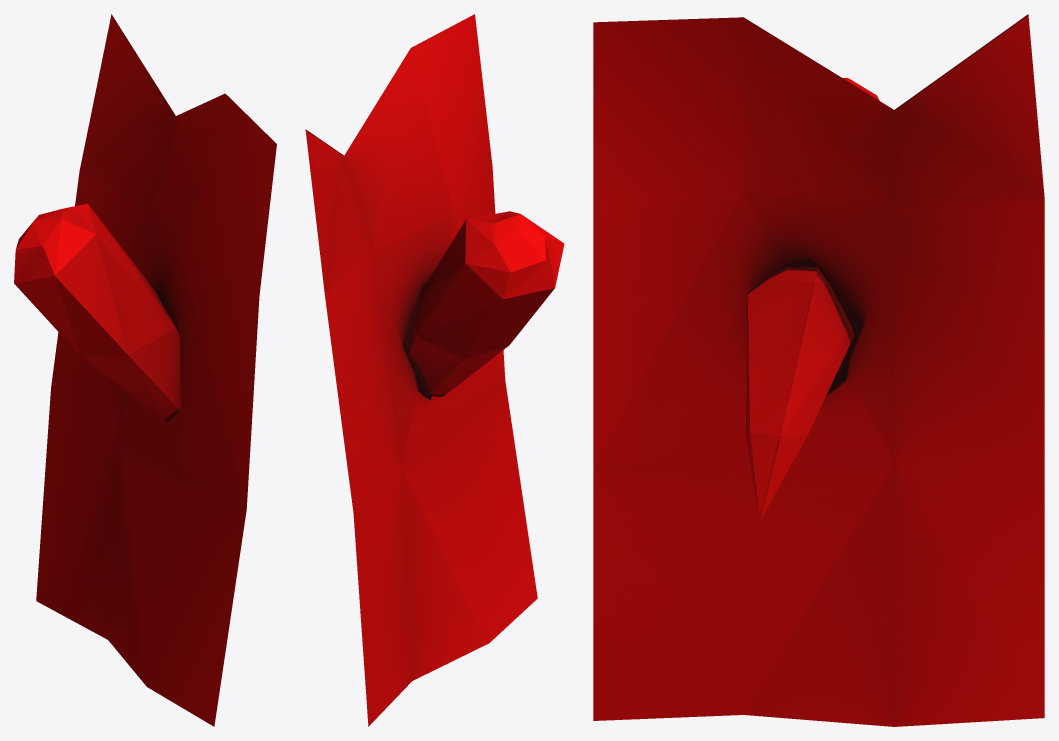
File: Crystal.FBX
The picture shows the model from 3 angles, left to right: view 1: azimuth 30°, elevation 25°; view 2: azimuth 150°, elevation 25°; view 3: azimuth 270°, elevation 25°; orthographic projection. The views are drawn at different scales.
Parts seen in each view (by area): view 1: Box087; view 2: Box087; view 3: Box087.
Part boxes in pixels (box(x1,y1,x2,y2)): Box087: box(14, 14, 276, 726); Box087: box(305, 14, 564, 726); Box087: box(593, 14, 1044, 726).
Size of the model in its own units: 28.53 by 80.94 by 44.29.
